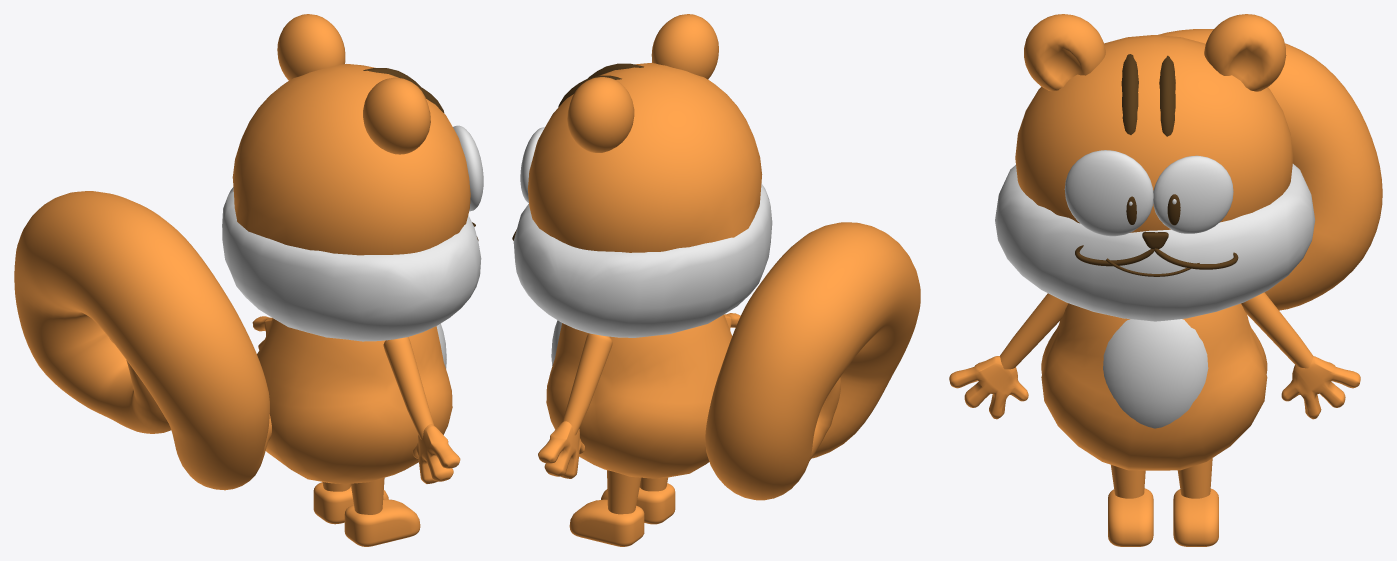
3 renders of one model, left to right at view 1: azimuth 30°, elevation 25°; view 2: azimuth 150°, elevation 25°; view 3: azimuth 270°, elevation 25°, orthographic. The views are drawn at different scales.
Visible parts, largest first — view 1: 圓管, 球體.001, 球體.011, 球體, 球體.002, 球體.003, 立方體.008, 圓柱體.001, 立方體.005, 立方體.007, 球體.004, 圓柱體.003; view 2: 圓管, 球體.001, 球體, 球體.011, 球體.003, 球體.002, 立方體.007, 圓柱體, 立方體.003, 圓柱體.002, 立方體.008, 球體.005; view 3: 球體.001, 球體, 球體.011, 圓管, 球體.014, 球體.004, 球體.005, 球體.003, 球體.002, 立方體.005, 立方體.003, 立方體.007 (+9 smaller).
Part boxes in pixels (x1,y1,x2,y2): 圓管: (14,191,271,490); 球體.001: (232,64,470,255); 球體.011: (257,318,452,484); 球體: (222,187,481,341); 球體.002: (363,77,430,154); 球體.003: (277,14,345,80); 立方體.008: (344,499,420,546); 圓柱體.001: (383,337,433,439); 立方體.005: (412,424,460,483); 立方體.007: (313,482,388,524); 球體.004: (453,125,483,211); 圓柱體.003: (351,477,384,514); 圓管: (705,222,920,500); 球體.001: (527,63,762,252); 球體: (513,183,772,337); 球體.011: (546,314,732,478); 球體.003: (567,77,634,152); 球體.002: (651,14,718,79); 立方體.007: (569,499,644,546); 圓柱體: (562,333,612,435); 立方體.003: (538,421,584,478); 圓柱體.002: (607,470,641,514); 立方體.008: (601,483,675,524); 球體.005: (520,127,544,202); 球體.001: (1015,35,1293,232); 球體: (995,164,1315,321); 球體.011: (1041,303,1267,470); 圓管: (1158,29,1382,310); 球體.014: (1103,319,1208,428); 球體.004: (1064,150,1153,236); 球體.005: (1153,155,1233,233); 球體.003: (1204,14,1286,91); 球體.002: (1024,14,1105,91); 立方體.005: (949,356,1028,419); 立方體.003: (1281,356,1360,419); 立方體.007: (1173,488,1218,546).
Bounding box in the file's own units: 419 × 514 × 396.
